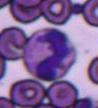N: (24, 28, 76, 80)
